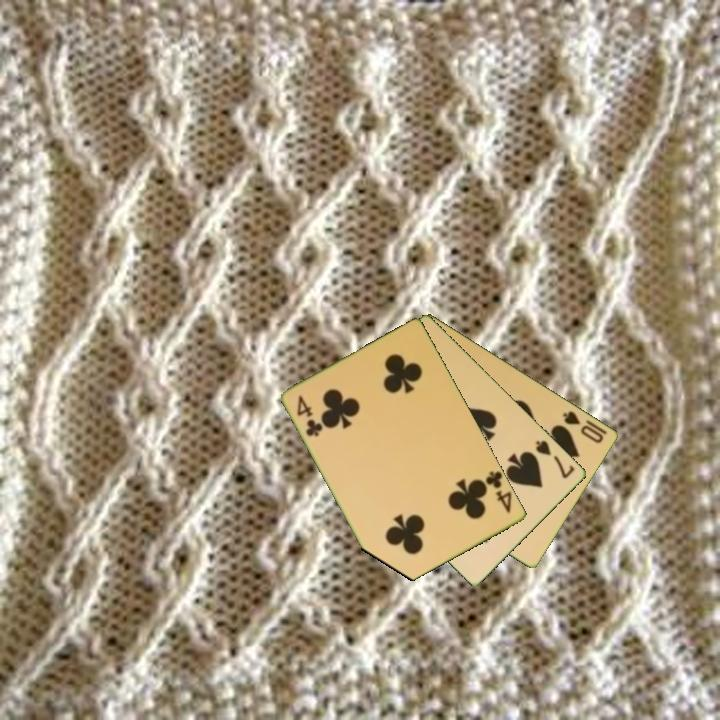10s: (559, 407, 607, 446)
4c: (482, 467, 515, 516), (294, 391, 326, 440)
7s: (532, 437, 578, 481)
